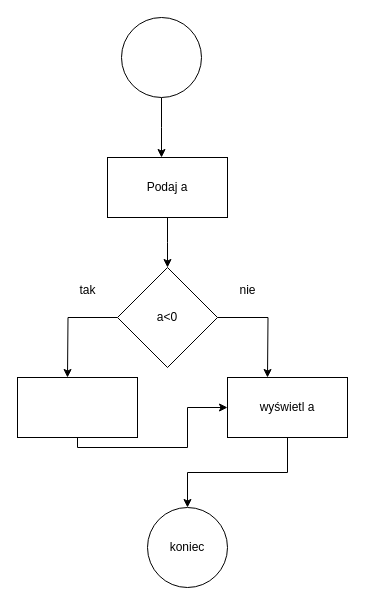
Some shapes in this 365 by 605 pixel diagram are drawn without their labels. The centre of each missing label's shape, as x and y in pixels:
"a=a*(-1)" belongs at [77,407].
"Start" belongs at [161,57].
